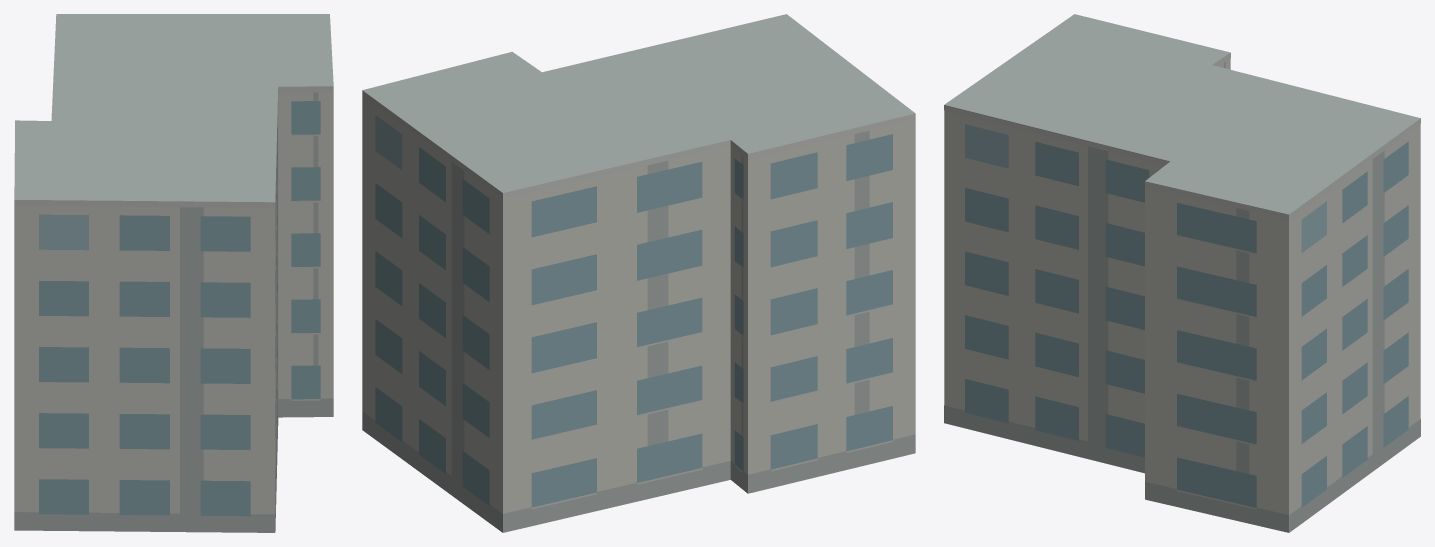
File: survey-upis-32919842.glb
3 renders of one model, left to right at view 1: azimuth 30°, elevation 25°; view 2: azimuth 150°, elevation 25°; view 3: azimuth 270°, elevation 25°, orthographic. The views are drawn at different scales.
Visible parts, largest first — view 1: survey-upis-32919842.tmp; view 2: survey-upis-32919842.tmp; view 3: survey-upis-32919842.tmp.
Boxes of the visible parts, <box> form: survey-upis-32919842.tmp: <box>14,14,333,532</box>; survey-upis-32919842.tmp: <box>362,14,915,532</box>; survey-upis-32919842.tmp: <box>944,14,1420,532</box>.
Bounding box in the file's own units: 18.52 × 13.7 × 18.6.
